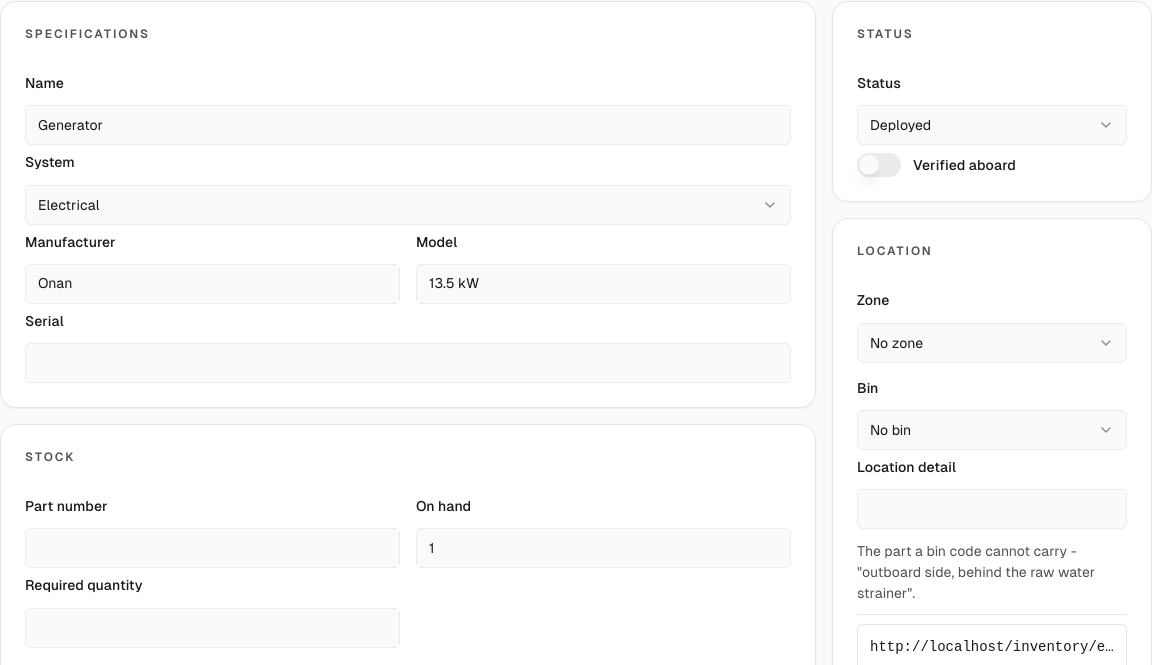
EquipmentEditor › shows the server's save error in the save bar
Replace the text in the field labelled "Name" with "Renamed" at (408, 125), box [25,105,791,145]
(page scrolled)
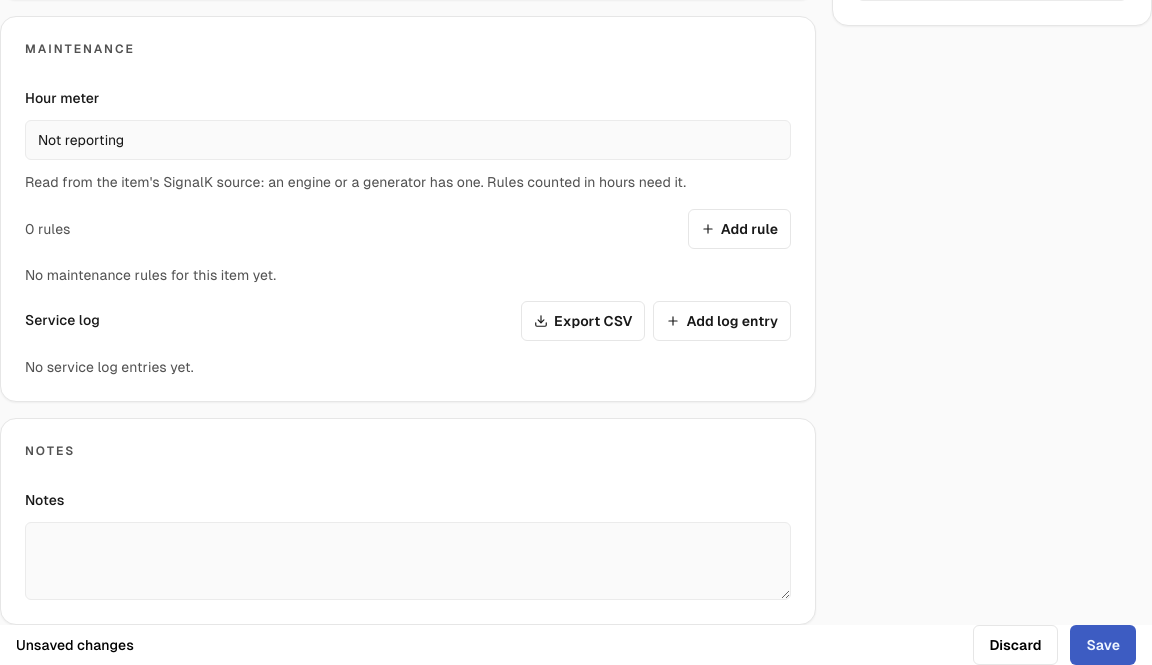
Click the button "Save" at (1103, 645), box [1070,625,1136,664]
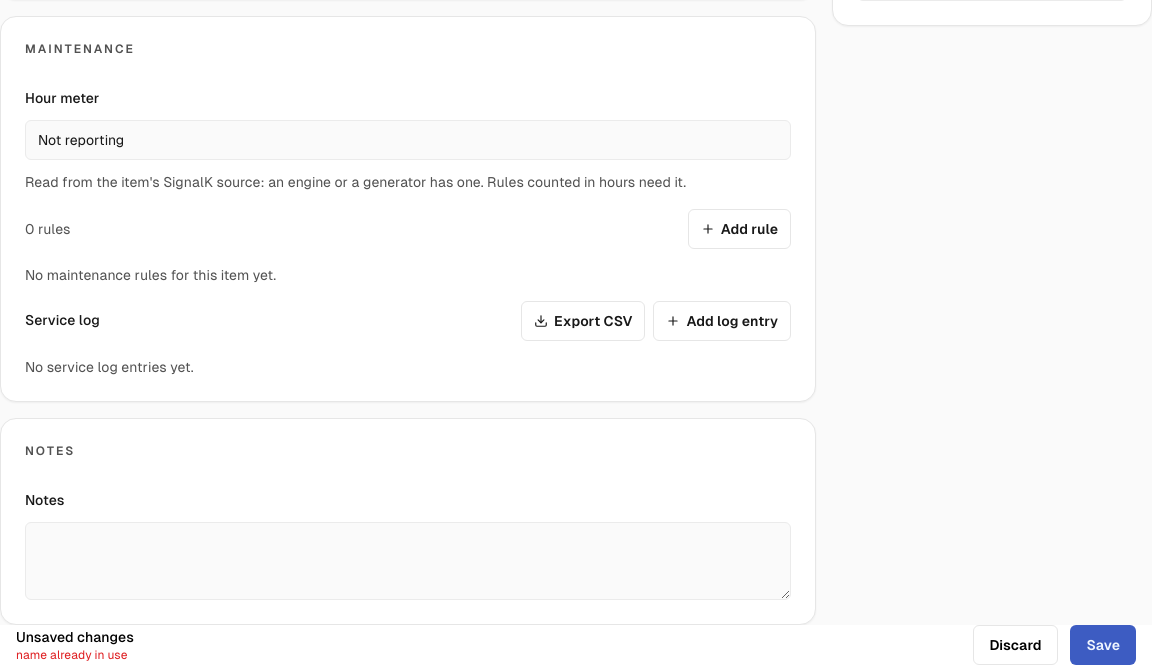
Now the button "Save" is shown, box [1070,625,1136,664]
Now the message reads "name already in use", box [16,648,128,662]
